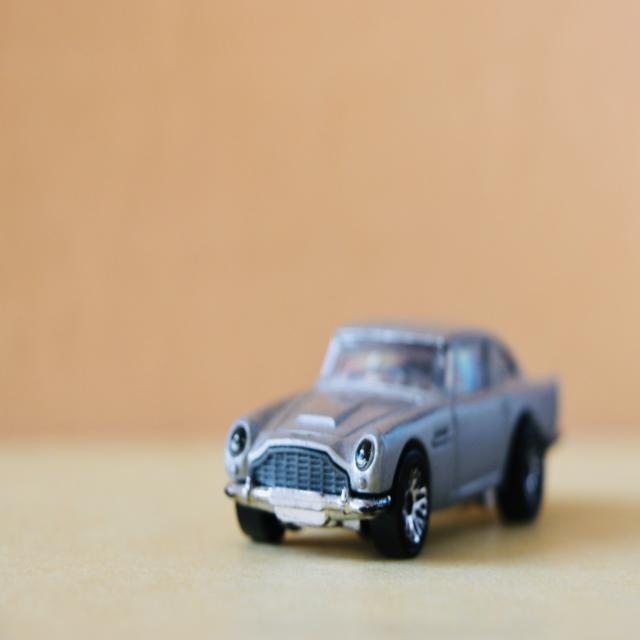Car: (224, 324, 558, 557)
